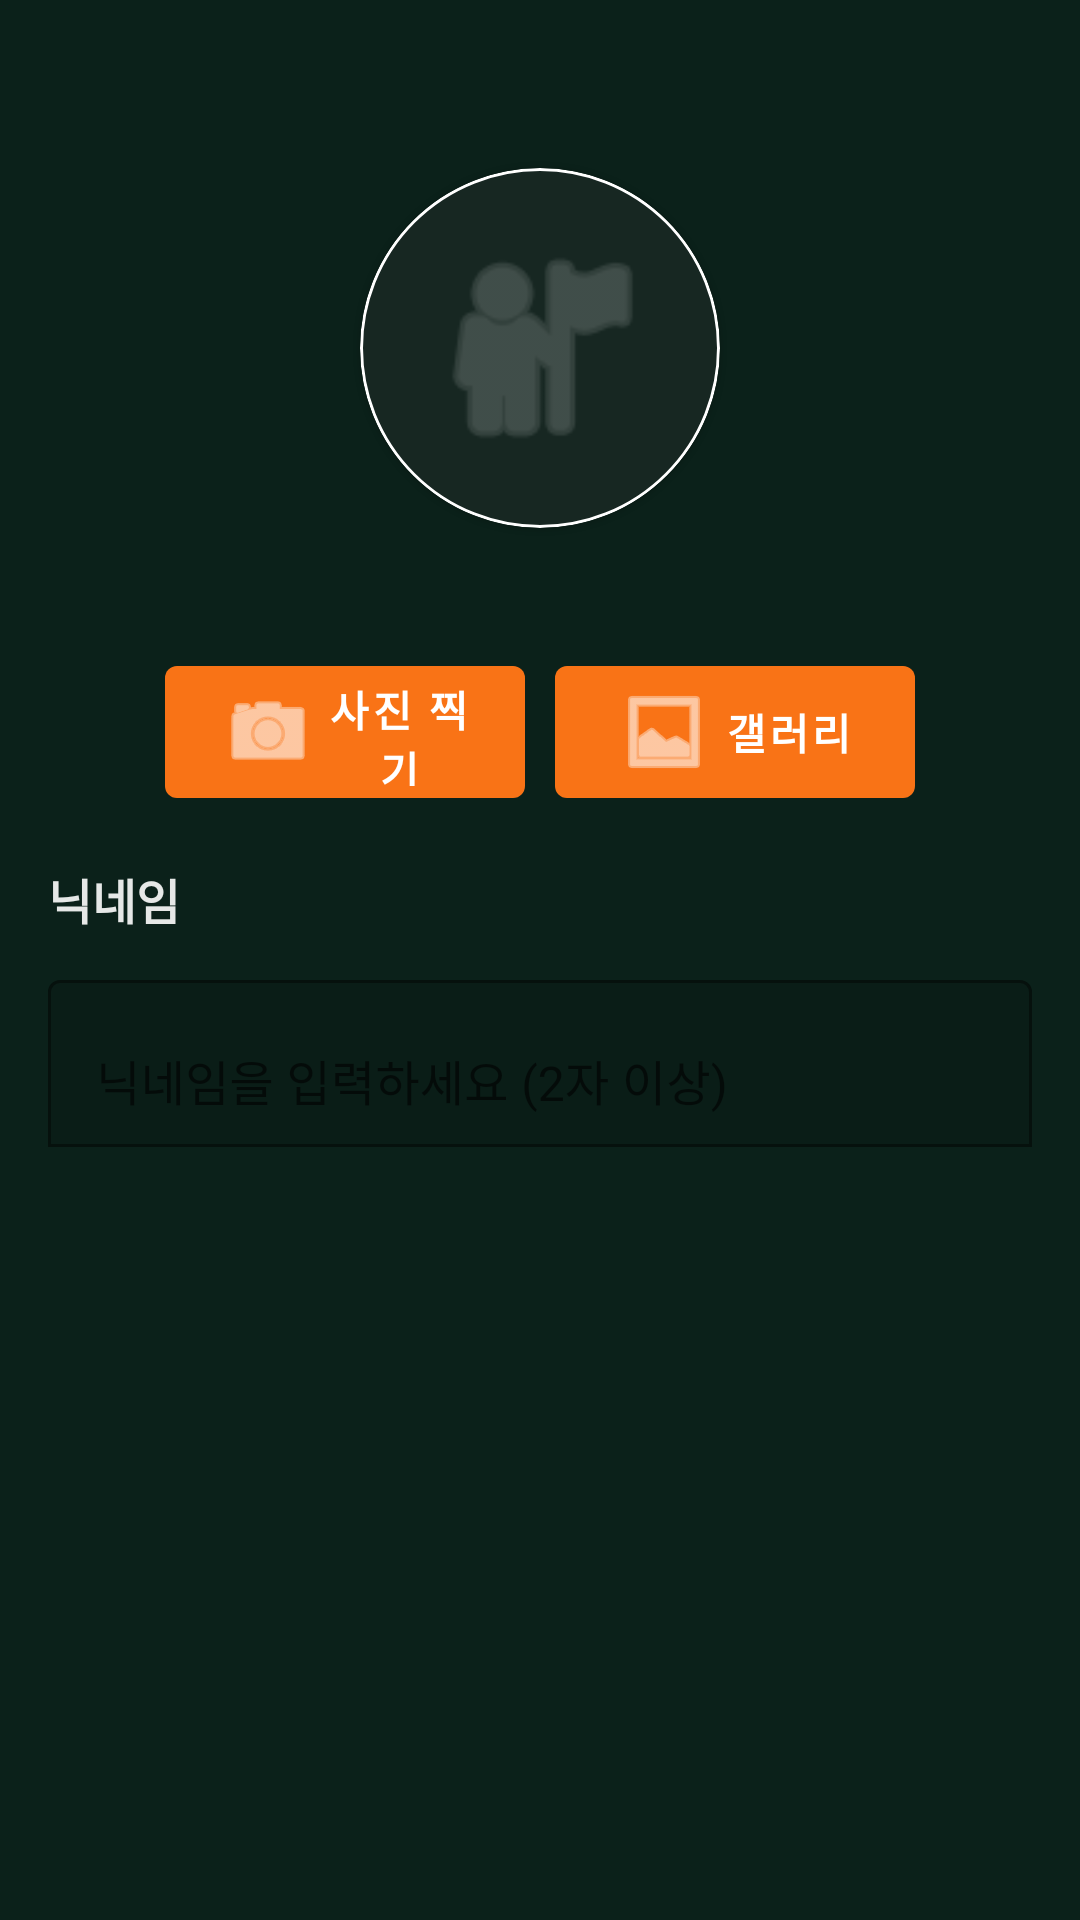

Where to tap for icons on this 1080px x 1920px app screen, as (x=x, y=y):
myplaces: (x=540, y=348)
